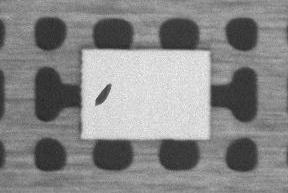DIE_INK: (139, 54, 169, 72)
